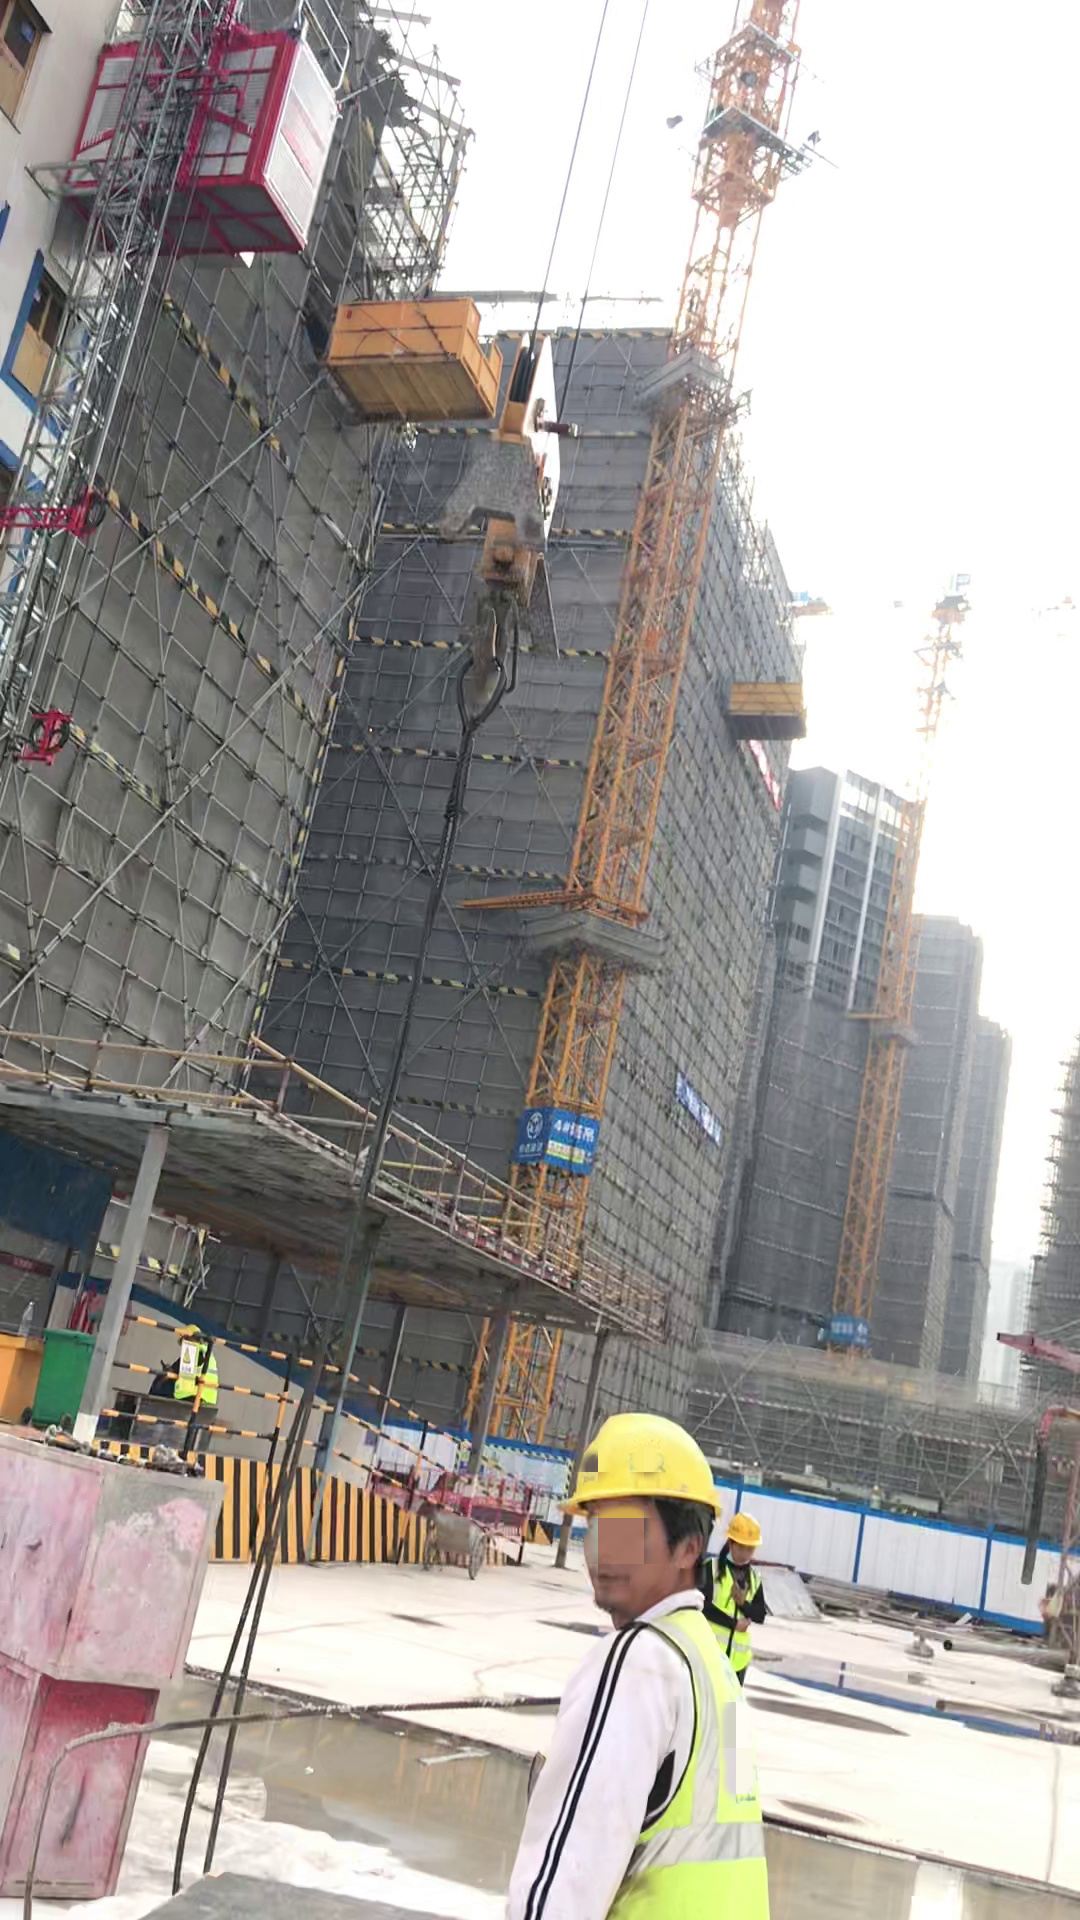helmet: (554, 1407, 733, 1509), (724, 1509, 775, 1546), (179, 1321, 205, 1336)
hook: (451, 344, 617, 704)
person: (477, 1406, 811, 1920), (700, 1519, 796, 1689), (153, 1317, 250, 1459)
vest: (585, 1605, 786, 1917), (710, 1561, 753, 1672), (177, 1344, 221, 1403)
